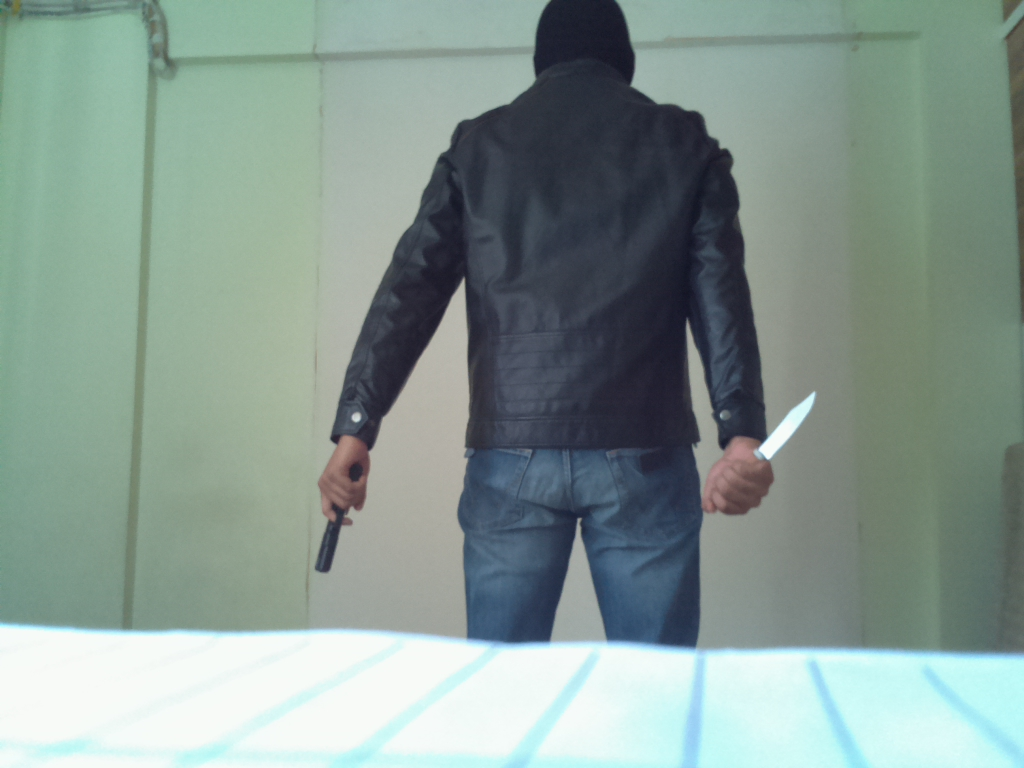gun: (311, 461, 367, 581)
knife: (724, 389, 830, 511)
